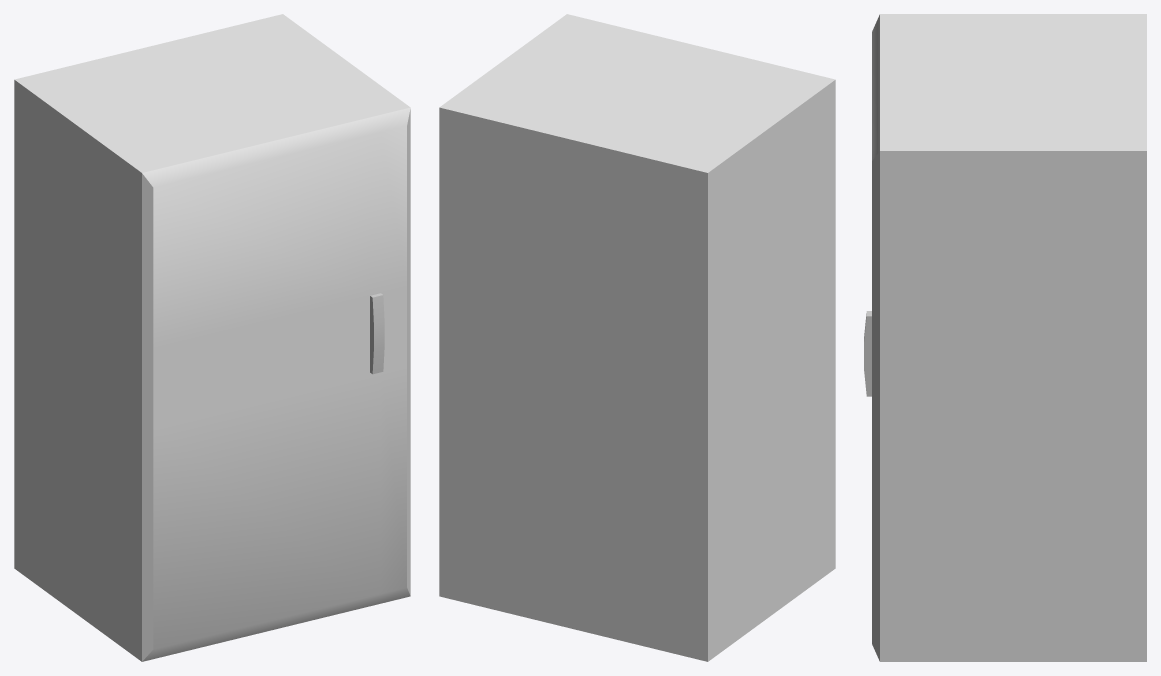
The model's file is Buzdolab.fbx.
3 views of the same model, side by side, from view 1: azimuth 30°, elevation 25°; view 2: azimuth 150°, elevation 25°; view 3: azimuth 270°, elevation 25° (orthographic). The views are drawn at different scales.
Parts seen in each view (by area): view 1: Buzdolabı; view 2: Buzdolabı; view 3: Buzdolabı.
Part boxes in pixels (box(x1,y1,x2,y2)): Buzdolabı: box(14, 14, 410, 661); Buzdolabı: box(439, 14, 835, 661); Buzdolabı: box(864, 14, 1146, 661).
Size of the model in its own units: 200 by 348 by 175.
